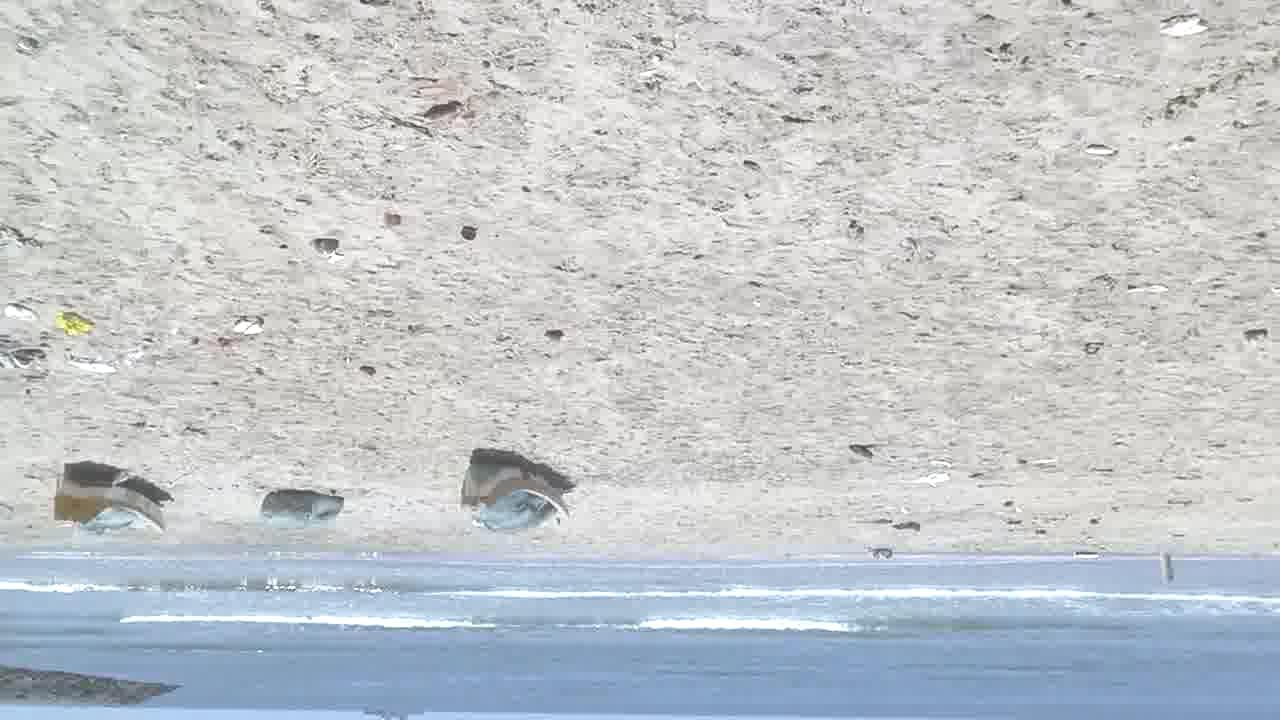large collection of objects: (458, 455, 570, 537), (51, 477, 165, 536), (260, 485, 348, 530), (850, 444, 871, 466)
obj: (1154, 65, 1250, 124), (1156, 11, 1208, 40), (891, 466, 952, 484), (68, 356, 118, 375), (1, 226, 40, 250), (1, 302, 42, 324), (232, 310, 266, 336), (5, 347, 42, 370), (61, 313, 90, 339), (882, 520, 917, 535), (312, 238, 338, 256), (1160, 552, 1174, 583), (871, 548, 898, 561), (544, 329, 564, 345), (314, 239, 334, 254), (358, 363, 376, 375), (458, 227, 476, 239), (384, 214, 404, 224)
sand/background: (1, 544, 1279, 719)
